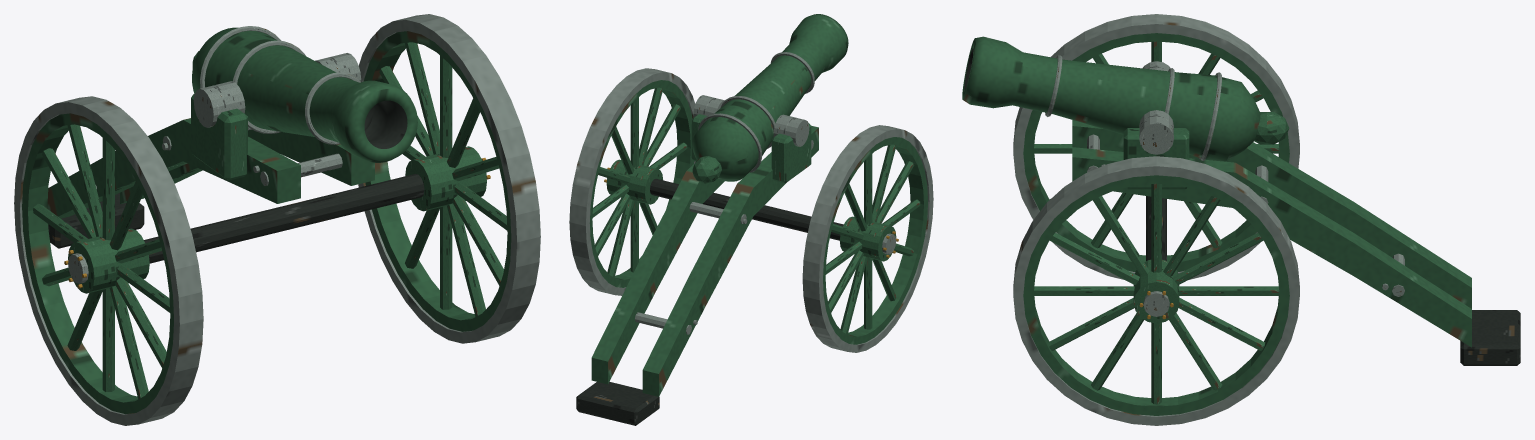
The model's file is cannon.obj.
The picture shows the model from 3 angles, left to right: view 1: azimuth 30°, elevation 25°; view 2: azimuth 150°, elevation 25°; view 3: azimuth 270°, elevation 25°; orthographic projection. The views are drawn at different scales.
Parts seen in each view (by area): view 1: Cannon_Material_Group_01, Cannon_Material_Group_00, Cannon_Material_Group_04, Cannon_Material_Group_03; view 2: Cannon_Material_Group_01, Cannon_Material_Group_00, Cannon_Material_Group_04, Cannon_Material_Group_03; view 3: Cannon_Material_Group_01, Cannon_Material_Group_00, Cannon_Material_Group_04, Cannon_Material_Group_03.
Part boxes in pixels (box(x1,y1,x2,y2)): Cannon_Material_Group_01: box(22, 31, 511, 413); Cannon_Material_Group_00: box(14, 14, 540, 425); Cannon_Material_Group_04: box(192, 27, 417, 162); Cannon_Material_Group_03: box(48, 174, 424, 263); Cannon_Material_Group_01: box(589, 80, 927, 396); Cannon_Material_Group_00: box(569, 52, 933, 352); Cannon_Material_Group_04: box(692, 14, 848, 181); Cannon_Material_Group_03: box(576, 178, 843, 425); Cannon_Material_Group_01: box(1023, 33, 1471, 415); Cannon_Material_Group_00: box(1013, 14, 1404, 425); Cannon_Material_Group_04: box(962, 36, 1260, 161); Cannon_Material_Group_03: box(1146, 196, 1520, 365).
Size of the model in its own units: 1.54 by 1.3 by 2.12.
Materials: 4 (4 with a texture image).
